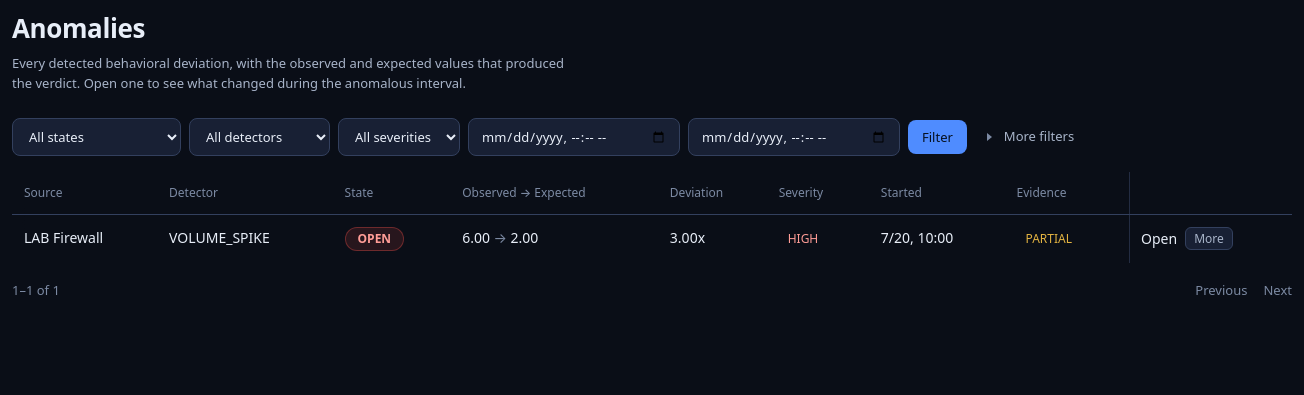
row disclosure › shows a still-running anomaly as running, not as a 0s duration
Click the button with aria-label "Show technical detail": (1209, 239) [1185,227,1233,250]
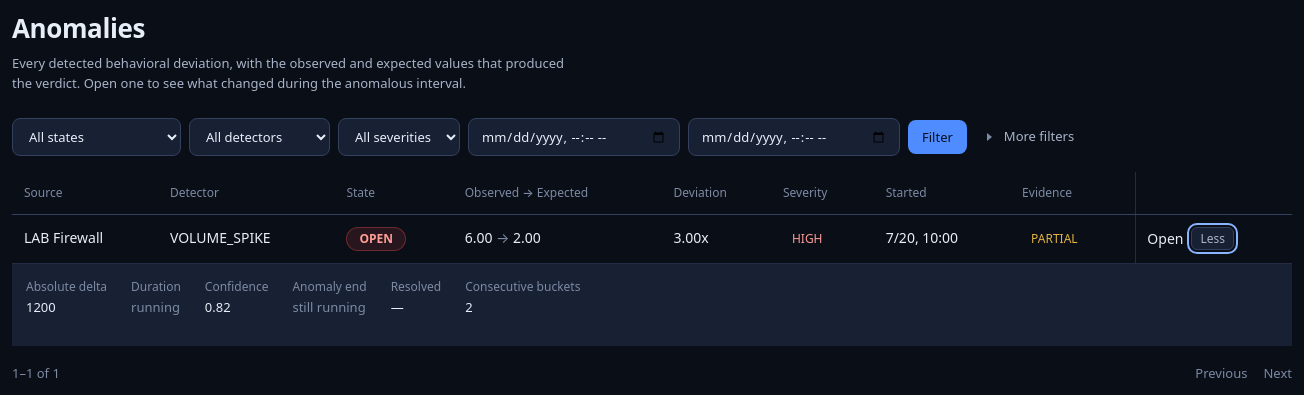
Check: the text "running" is shown, box [131,298,180,316]
Check: the text "still running" is shown, box [292,298,366,316]
